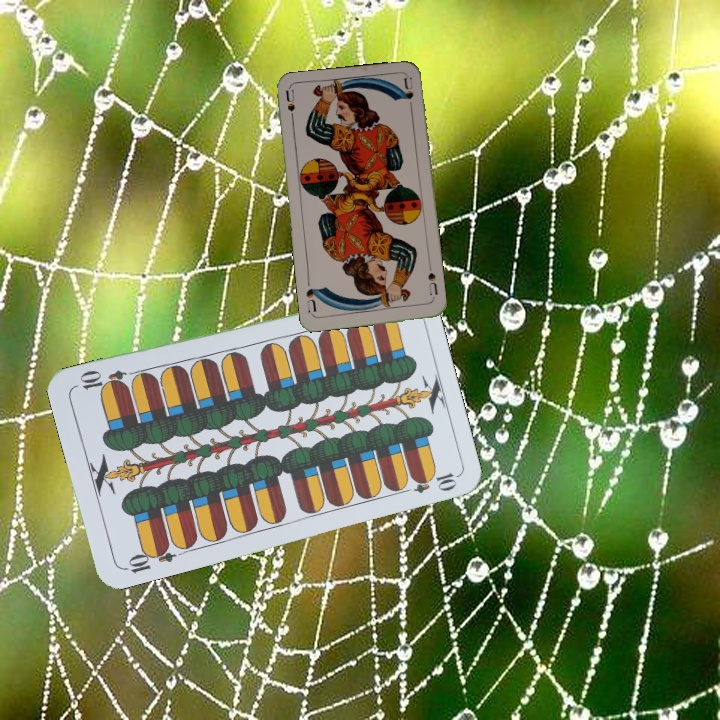E10: (119, 540, 178, 576)
SU: (281, 87, 298, 128), (424, 262, 440, 302)
